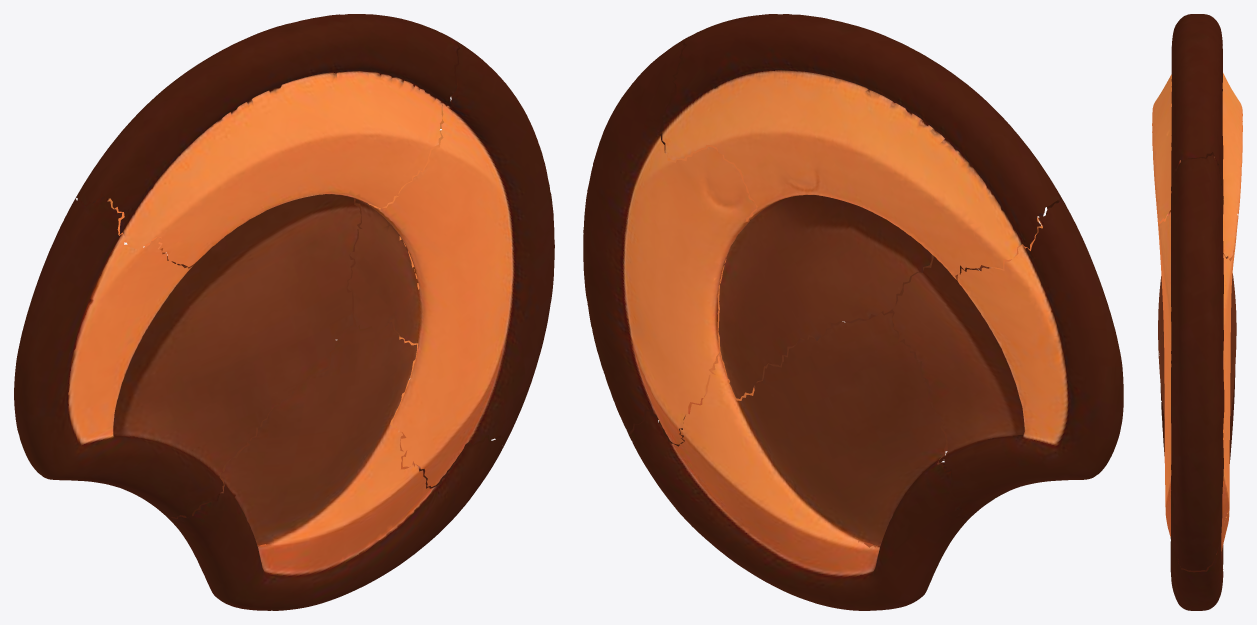
File: oreja-izquierda.glb
The picture shows the model from 3 angles, left to right: view 1: azimuth 30°, elevation 25°; view 2: azimuth 150°, elevation 25°; view 3: azimuth 270°, elevation 25°; orthographic projection. The views are drawn at different scales.
Parts seen in each view (by area): view 1: model; view 2: model; view 3: model.
Part boxes in pixels (x1=…): model: x1=14, y1=14, x2=554, y2=610; model: x1=583, y1=14, x2=1123, y2=610; model: x1=1152, y1=14, x2=1242, y2=610.
Size of the model in its own units: 1.82 by 1.9 by 0.2863.
1 material, 1 textured.
